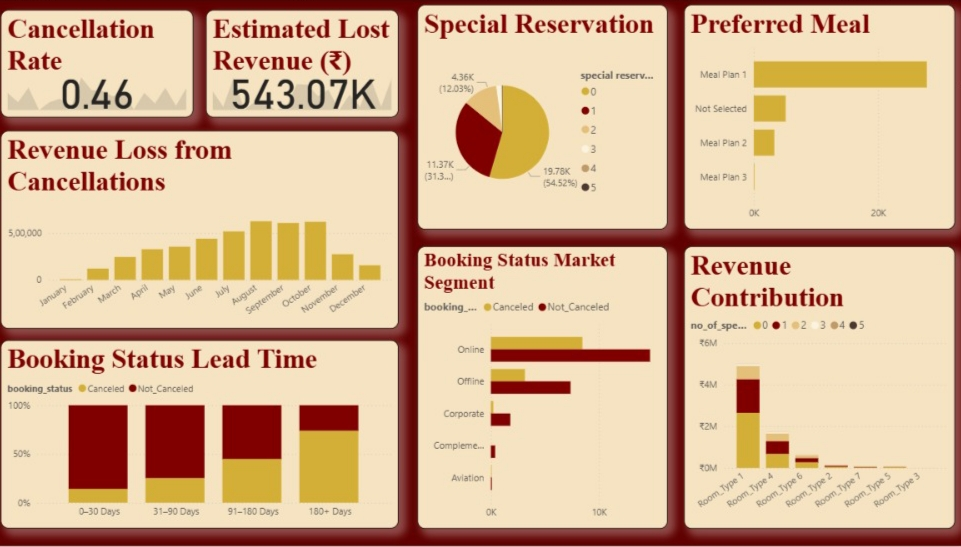

Layout of this report page (visuals, bound fields, positions):
{"tool":"powerbi","page":{"name":"Page 2","canvas":[1280,720],"ordinal":2},"visuals":[{"type":"pieChart","title":" Special Reservation","fields":{"Category":["Hotel Reservation Analysis.no_of_special_requests"],"Y":["CountNonNull(Hotel Reservation Analysis.room_type_reserved)"]},"box":[552.5,13.3,349.9,299.2],"z":0},{"type":"barChart","title":"Preferred Meal","fields":{"Category":["Hotel Reservation Analysis.type_of_meal_plan"],"Y":["CountNonNull(Hotel Reservation Analysis.Booking_ID)"]},"box":[914.5,13.3,355.9,299.2],"z":1000},{"type":"columnChart","title":"Revenue Contribution","fields":{"Category":["Hotel Reservation Analysis.room_type_reserved"],"Y":["Sum(Hotel Reservation Analysis.Revenue)"],"Series":["Hotel Reservation Analysis.no_of_special_requests"]},"box":[552.5,324.5,348.7,383.6],"z":2000},{"type":"clusteredBarChart","title":"Booking Status Market Segment","fields":{"Category":["Hotel Reservation Analysis.market_segment_type"],"Y":["CountNonNull(Hotel Reservation Analysis.Booking_ID)"],"Series":["Hotel Reservation Analysis.booking_status"]},"box":[914.5,324.5,355.9,383.6],"z":3000},{"type":"clusteredColumnChart","title":"Revenue Loss from Cancellations","fields":{"Category":["Hotel Reservation Analysis.Arrival Month Name"],"Y":["Hotel Reservation Analysis.Lost Revenue"]},"box":[8.4,173.7,529.6,260.6],"z":4000},{"type":"kpi","title":"Estimated Lost Revenue (₹)","fields":{"Indicator":["Hotel Reservation Analysis.Lost Revenue"],"TrendLine":["Hotel Reservation Analysis.Arrival Year-Month"]},"box":[249.7,13.3,288.3,152],"z":5000},{"type":"kpi","title":"Cancellation Rate","fields":{"Indicator":["Hotel Reservation Analysis.Cancellation Rate"],"TrendLine":["Hotel Reservation Analysis.Arrival Year-Month"]},"box":[8.4,13.3,232.8,152],"z":6000},{"type":"hundredPercentStackedColumnChart","title":" Booking Status Lead Time","fields":{"Category":["Hotel Reservation Analysis.Lead Time Bucket"],"Y":["CountNonNull(Hotel Reservation Analysis.Booking_ID)"],"Series":["Hotel Reservation Analysis.booking_status"]},"box":[8.4,447.6,529.6,260.6],"z":7000}]}

Visuals, with their boxes in screenshot pixels (x1, y1, x2, y2), scaled from the page's 1280x720 canvas onto the 961x547 screenshot:
" Special Reservation" pieChart: crop(415, 10, 678, 237)
"Preferred Meal" barChart: crop(687, 10, 954, 237)
"Revenue Contribution" columnChart: crop(415, 247, 677, 538)
"Booking Status Market Segment" clusteredBarChart: crop(687, 247, 954, 538)
"Revenue Loss from Cancellations" clusteredColumnChart: crop(6, 132, 404, 330)
"Estimated Lost Revenue (₹)" kpi: crop(187, 10, 404, 126)
"Cancellation Rate" kpi: crop(6, 10, 181, 126)
" Booking Status Lead Time" hundredPercentStackedColumnChart: crop(6, 340, 404, 538)
